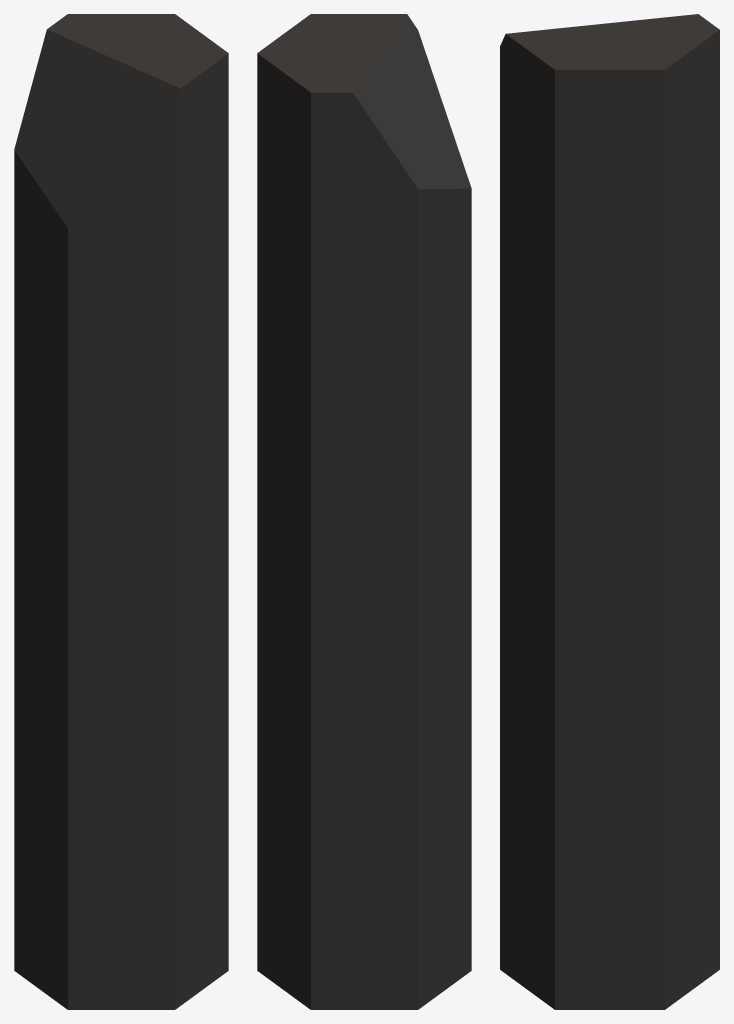
Rendered from forth.fbx.
3 renders of one model, left to right at view 1: azimuth 30°, elevation 25°; view 2: azimuth 150°, elevation 25°; view 3: azimuth 270°, elevation 25°, orthographic. The views are drawn at different scales.
Parts seen in each view (by area): view 1: Circle; view 2: Circle; view 3: Circle.
Boxes of the visible parts, <box> form: Circle: <box>14,14,228,1009</box>; Circle: <box>257,14,471,1009</box>; Circle: <box>500,14,719,1009</box>.
Size of the model in its own units: 38.22 by 208 by 44.14.
